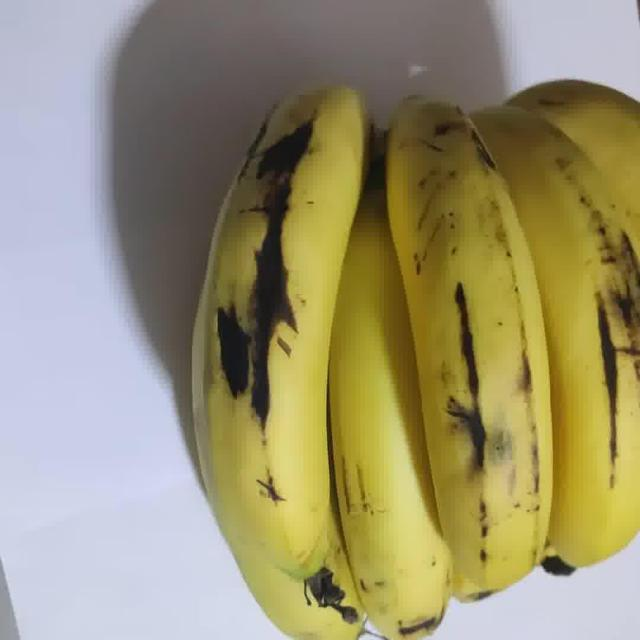Banana: (195, 83, 374, 639), (386, 93, 553, 601), (472, 107, 639, 569), (328, 187, 451, 639)
